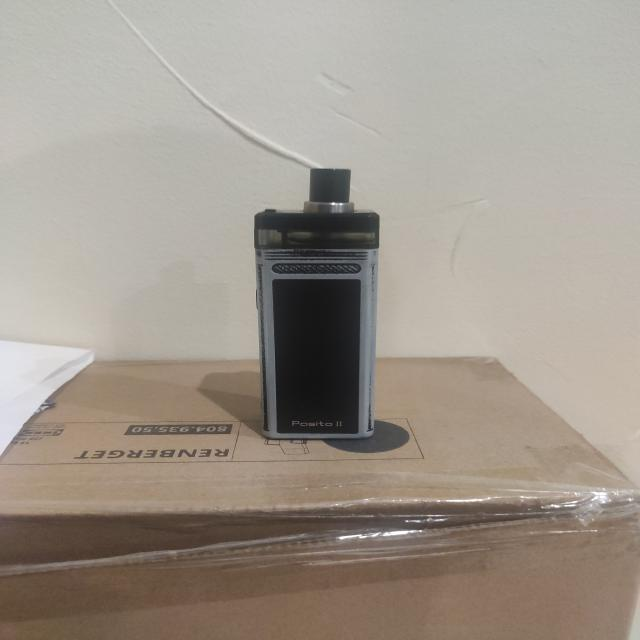cigaret: (232, 167, 378, 443)
